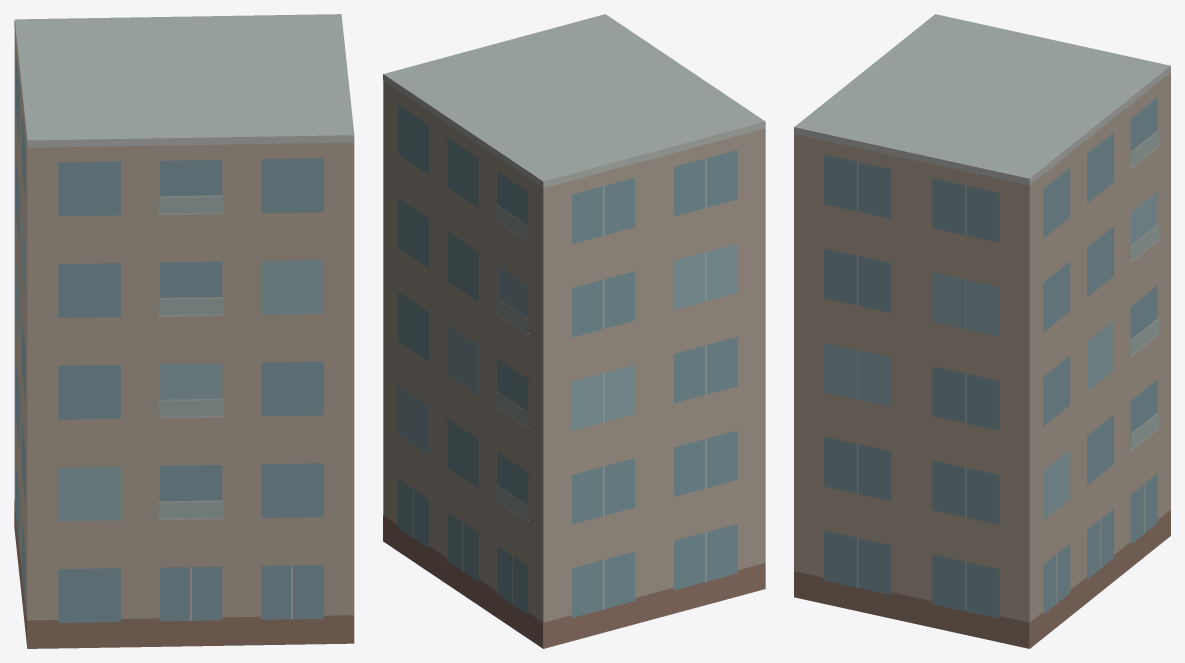
The model's file is survey-upis-32532359.glb.
The picture shows the model from 3 angles, left to right: view 1: azimuth 30°, elevation 25°; view 2: azimuth 150°, elevation 25°; view 3: azimuth 270°, elevation 25°; orthographic projection. The views are drawn at different scales.
Visible parts, largest first — view 1: survey-upis-32532359.tmp; view 2: survey-upis-32532359.tmp; view 3: survey-upis-32532359.tmp.
Boxes of the visible parts, x1,y1,x2,y2 form: survey-upis-32532359.tmp: [14, 14, 354, 648]; survey-upis-32532359.tmp: [383, 14, 765, 648]; survey-upis-32532359.tmp: [794, 14, 1170, 648].
Size of the model in its own units: 12.79 by 17 by 12.36.
